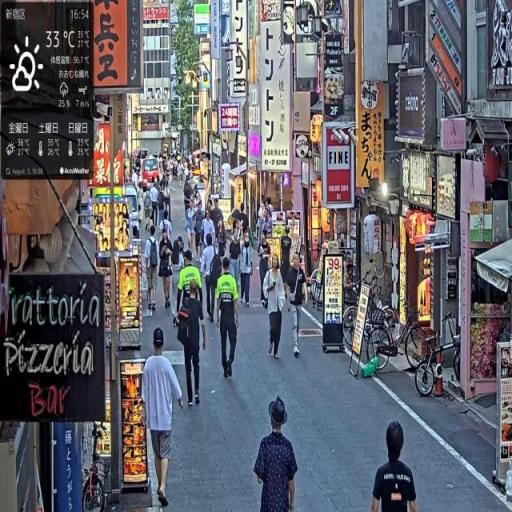person: (142, 327, 187, 512), (253, 394, 299, 512), (370, 421, 419, 512), (177, 276, 208, 410), (215, 254, 241, 380), (264, 253, 290, 361), (286, 252, 308, 361), (143, 224, 161, 316), (202, 235, 220, 324), (160, 228, 176, 313), (259, 227, 274, 309), (240, 230, 255, 309)
